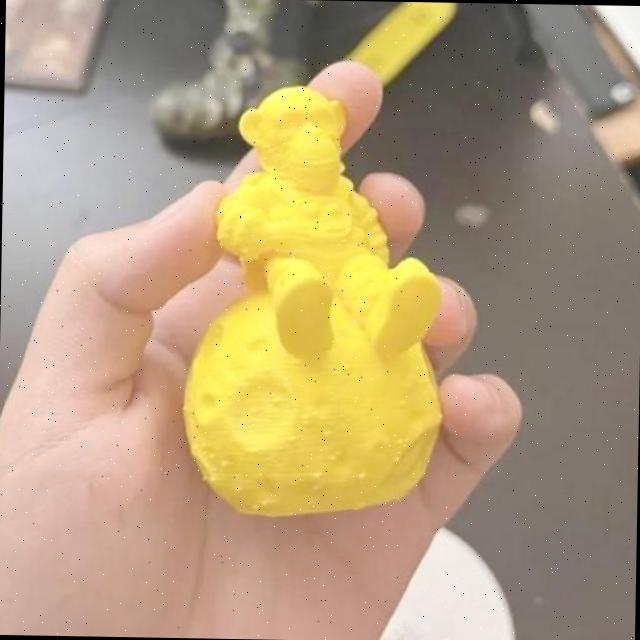blobs: (268, 390, 284, 408), (218, 456, 234, 471), (204, 470, 220, 485), (301, 411, 316, 426), (231, 481, 244, 496), (310, 468, 326, 480), (286, 432, 300, 444), (326, 451, 339, 463), (392, 435, 406, 446), (396, 394, 406, 409), (356, 470, 369, 481), (206, 450, 218, 461), (322, 428, 331, 441), (333, 447, 344, 457), (392, 454, 403, 464)
